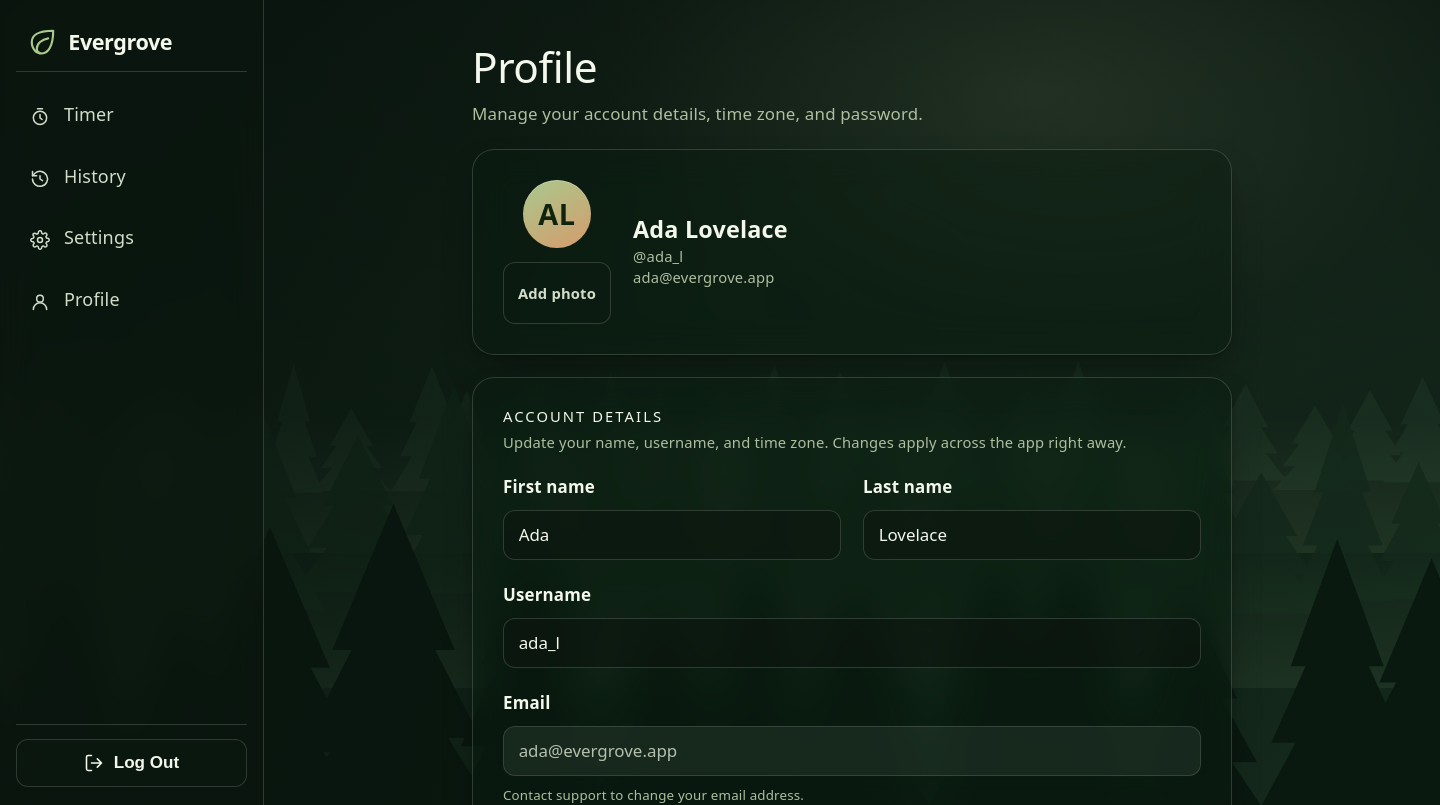
it: Suite J4 — Saving › J4.1 — sends only what changed, adopts the answer, and syncs it app-wide
Replace the text in the field labelled "First name" with "Grace": (672, 535) [519, 511, 825, 559]
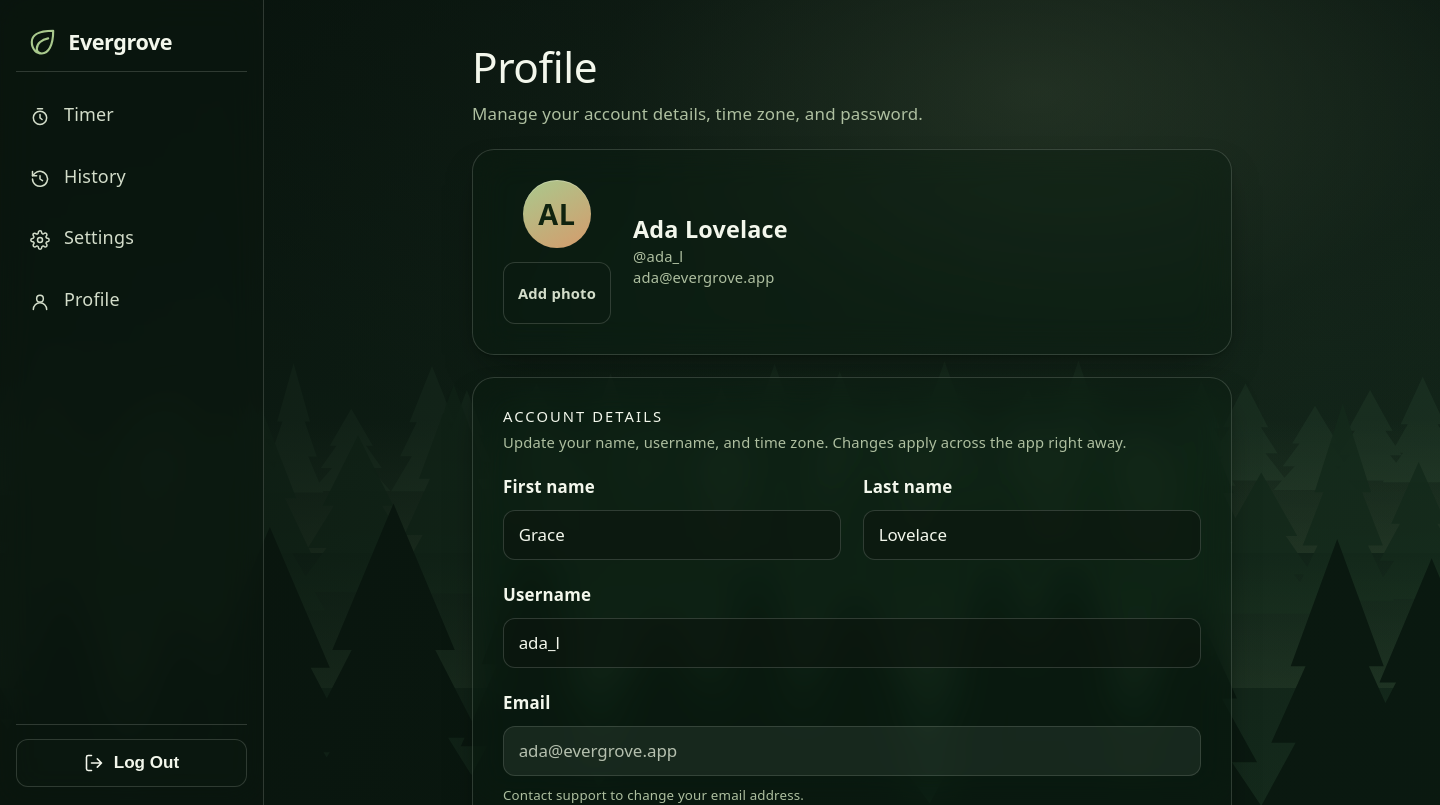
Replace the text in the field labelled "Username" with "  grace_h  ": (852, 643) [519, 619, 1185, 667]
(page scrolled)
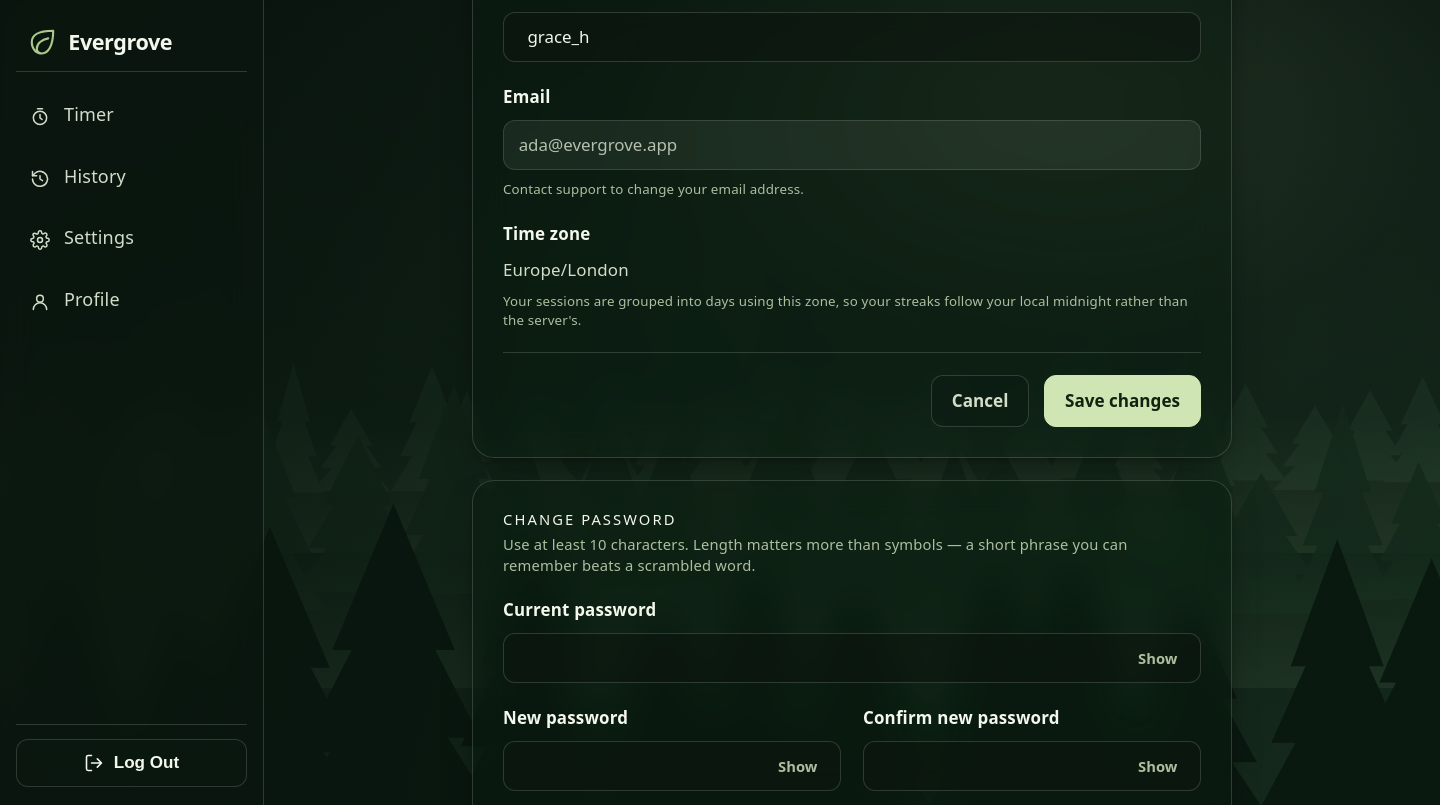
Click the button "Save changes": (1122, 401) [1044, 375, 1201, 427]
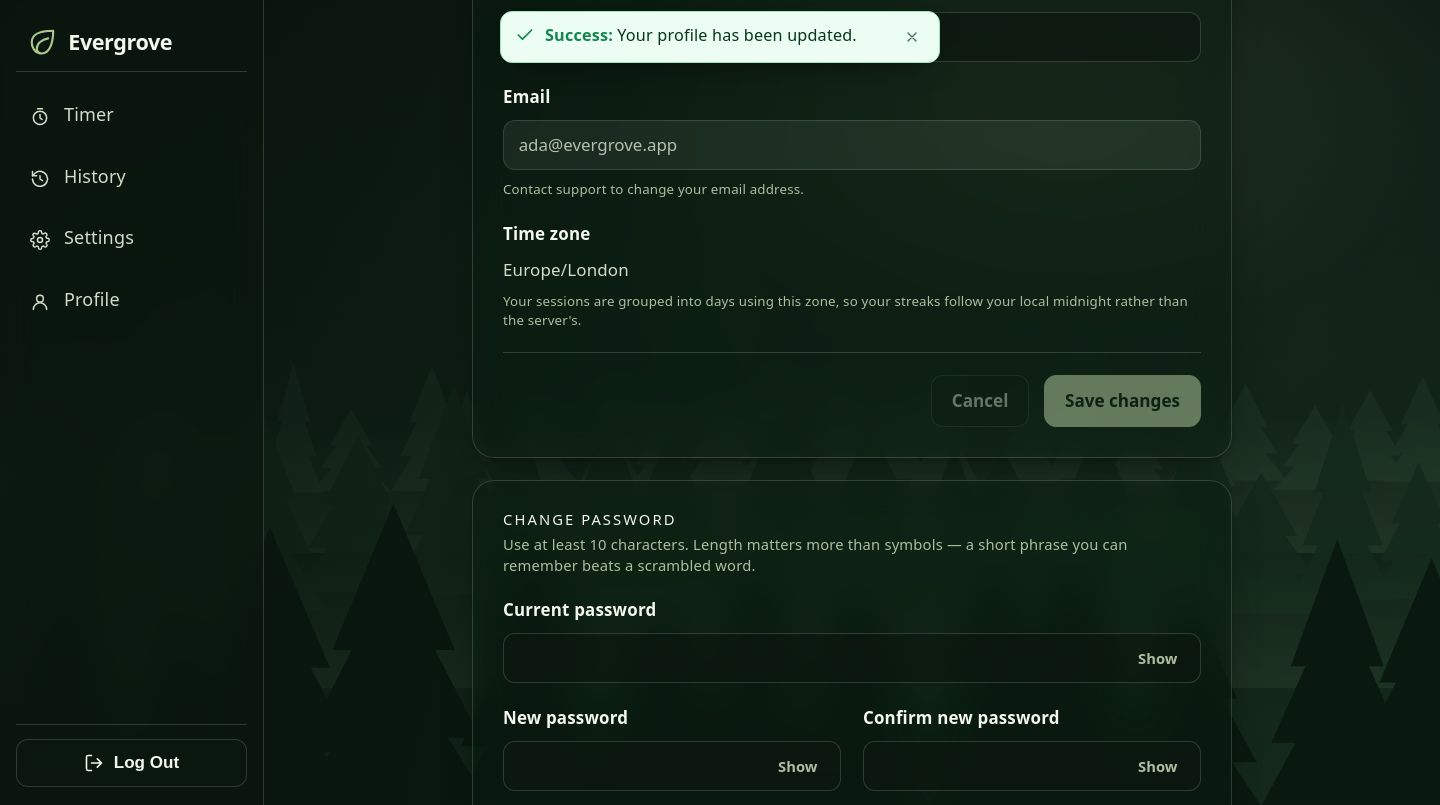
Check: the text "Success: Your profile has been updated." is shown, box [545, 24, 889, 48]
Check: the button "Save changes" is disabled, box [1044, 375, 1201, 427]
